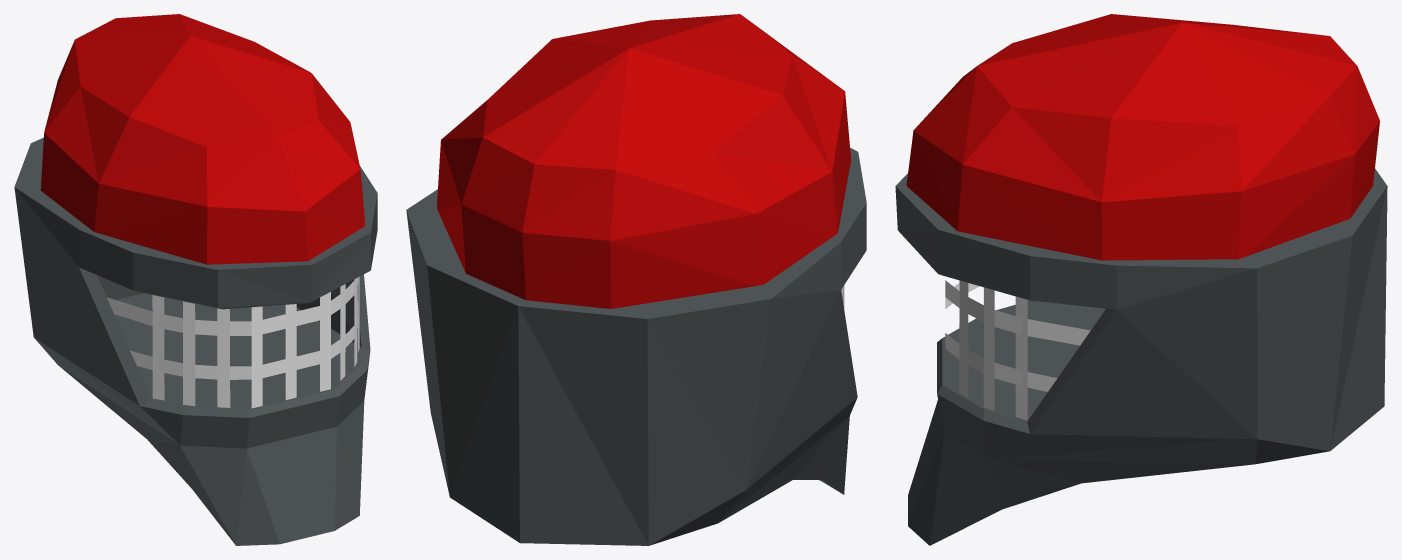
The model's file is Ice_hockey_helmet_red.fbx.
3 views of the same model, side by side, from view 1: azimuth 30°, elevation 25°; view 2: azimuth 150°, elevation 25°; view 3: azimuth 270°, elevation 25° (orthographic). The views are drawn at different scales.
Visible parts, largest first — view 1: Ice_hockey_helmet_red; view 2: Ice_hockey_helmet_red; view 3: Ice_hockey_helmet_red.
Boxes of the visible parts, x1,y1,x2,y2 form: Ice_hockey_helmet_red: [14, 14, 377, 545]; Ice_hockey_helmet_red: [406, 14, 866, 545]; Ice_hockey_helmet_red: [895, 14, 1387, 545].
Bounding box in the file's own units: 25.86 × 35.7 × 32.62.
